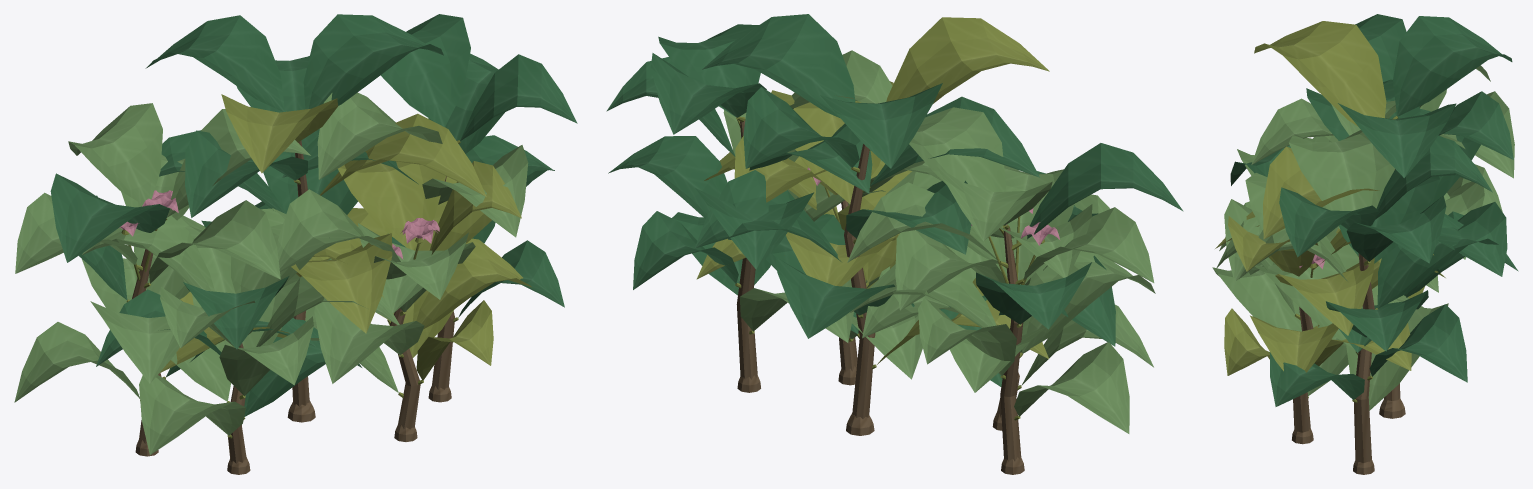
The model's file is AST-BOT-002_pool_loggia_mass_04.glb.
3 views of the same model, side by side, from view 1: azimuth 30°, elevation 25°; view 2: azimuth 150°, elevation 25°; view 3: azimuth 270°, elevation 25° (orthographic). The views are drawn at different scales.
Parts seen in each view (by area): view 1: AST-BOT-002_pool_loggia_mass_04; view 2: AST-BOT-002_pool_loggia_mass_04; view 3: AST-BOT-002_pool_loggia_mass_04.
Part boxes in pixels (x1,y1,x2,y2): AST-BOT-002_pool_loggia_mass_04: [14, 14, 577, 474]; AST-BOT-002_pool_loggia_mass_04: [606, 14, 1183, 474]; AST-BOT-002_pool_loggia_mass_04: [1212, 14, 1518, 474].
Size of the model in its own units: 2.26 by 1.5 by 1.18.
5 materials, 5 textured.
